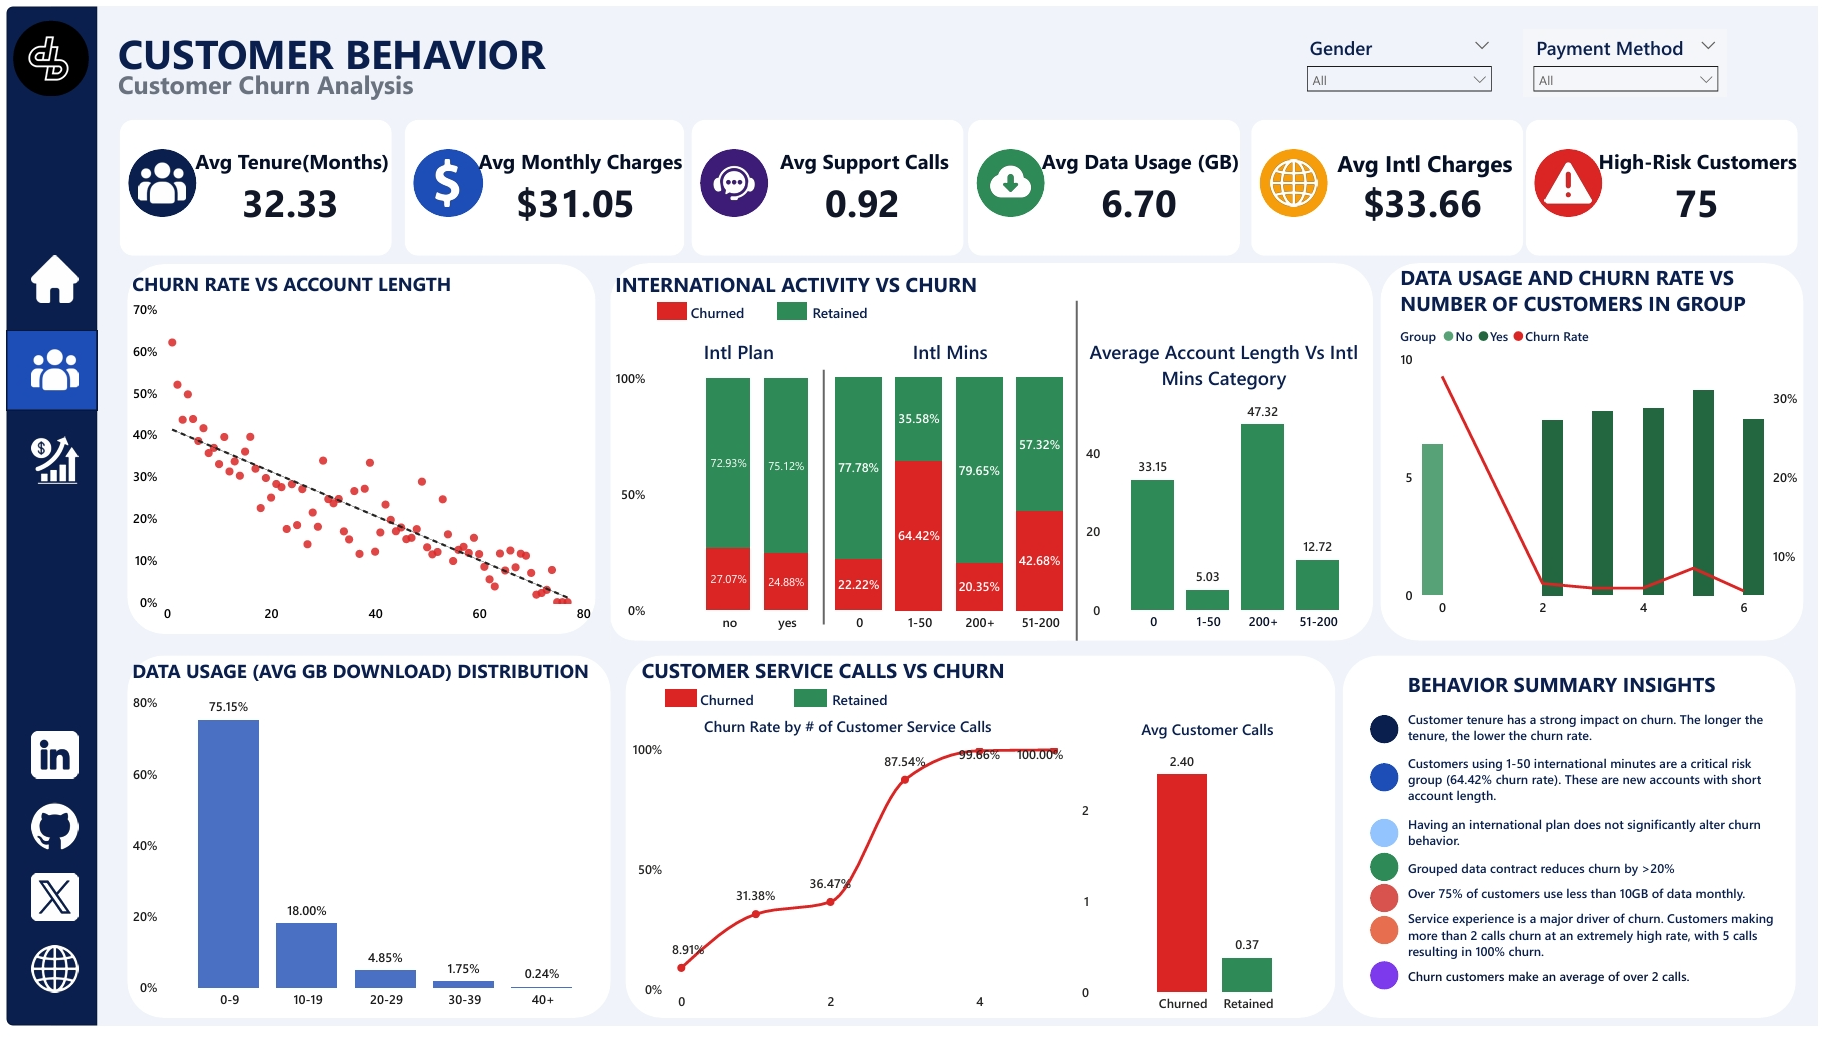

What the dashboard file says about the page in this screenshot:
{"tool":"powerbi","page":{"name":"Customer Behaviour","canvas":[1920,1080],"ordinal":1},"visuals":[{"type":"shape","box":[48,-8,1872,1088],"z":0},{"type":"group","id":"g1","title":"Group 2","box":[120,120,288,144],"z":0,"group":"g16"},{"type":"group","id":"g2","title":"Group 2","box":[421.8,120,296,144],"z":0,"group":"g17"},{"type":"group","id":"g3","title":"Group 2","box":[725.6,120,288,144],"z":0,"group":"g18"},{"type":"group","id":"g4","title":"Group 2","box":[1019.4,120,288,144],"z":0,"group":"g19"},{"type":"group","id":"g5","title":"Group 2","box":[1319.2,120,288,144],"z":0,"group":"g20"},{"type":"group","id":"g6","title":"Group 2","box":[1610,120,288,144],"z":0,"group":"g21"},{"type":"shape","box":[129,151,72,72],"z":0,"group":"g10"},{"type":"shape","box":[431,151,74,72],"z":0,"group":"g11"},{"type":"shape","box":[734.6,151,72,72],"z":0,"group":"g12"},{"type":"shape","box":[1028.4,151,72,72],"z":0,"group":"g13"},{"type":"shape","box":[1328.2,151,72,72],"z":0,"group":"g14"},{"type":"shape","box":[1619,151,72,72],"z":0,"group":"g15"},{"type":"shape","box":[690,314,31,19],"z":0,"group":"g22"},{"type":"shape","box":[698,724.3,33.5,19.1],"z":0,"group":"g7"},{"type":"lineChart","title":"Churn Rate by # of Customer Service Calls","fields":{"Y":["_Calculations.Churn Rate"],"Category":["Databel - Data.Customer Service Calls"]},"box":[658,751.5,466.8,322.5],"z":0,"group":"g23"},{"type":"card","fields":{"Values":["Avg(Databel - Data.Account Length (in months))"]},"box":[217,135,168,144],"z":1000,"group":"g16"},{"type":"card","fields":{"Values":["Avg(Databel - Data.Monthly Charge)"]},"box":[518.8,135,168,144],"z":1000,"group":"g17"},{"type":"card","fields":{"Values":["Avg(Databel - Data.Customer Service Calls)"]},"box":[822.6,135,168,144],"z":1000,"group":"g18"},{"type":"card","fields":{"Values":["Avg(Databel - Data.Avg Monthly GB Download)"]},"box":[1116.4,135,168,144],"z":1000,"group":"g19"},{"type":"card","fields":{"Values":["Avg(Databel - Data.Extra International Charges)"]},"box":[1416.2,135,168,144],"z":1000,"group":"g20"},{"type":"card","fields":{"Values":["DimSegmentation.Count of Customer ID for High Risk"]},"box":[1707,135,168,144],"z":1000,"group":"g21"},{"type":"image","box":[140,162,50,50],"z":1000,"group":"g10"},{"type":"image","box":[441.3,162,51.4,50],"z":1000,"group":"g11"},{"type":"image","box":[745.6,162,50,50],"z":1000,"group":"g12"},{"type":"image","box":[1039.4,162,50,50],"z":1000,"group":"g13"},{"type":"image","box":[1339.2,162,50,50],"z":1000,"group":"g14"},{"type":"image","box":[1630,162,50,50],"z":1000,"group":"g15"},{"type":"shape","box":[640,272,808,400],"z":1000},{"type":"shape","box":[128,273,496,392],"z":1000,"group":"g9"},{"type":"shape","box":[817,314,31,19],"z":1000,"group":"g22"},{"type":"shape","box":[835.2,724.3,33.5,19.1],"z":1000,"group":"g7"},{"type":"columnChart","title":"Avg Customer Calls","fields":{"Category":["DimChurn.Churn"],"Y":["Avg(Databel - Data.Customer Service Calls)"]},"box":[1134.5,754.5,276.6,322.5],"z":1000,"group":"g23"},{"type":"textbox","box":[195,144,224,48],"z":2000,"group":"g16"},{"type":"textbox","box":[494.8,144,228,48],"z":2000,"group":"g17"},{"type":"textbox","box":[800.6,144,216,48],"z":2000,"group":"g18"},{"type":"textbox","box":[1092.4,144,224,48],"z":2000,"group":"g19"},{"type":"textbox","box":[1399.2,144,208,48],"z":2000,"group":"g20"},{"type":"textbox","box":[1682,144,223,48],"z":2000,"group":"g21"},{"type":"shape","box":[1456,272,448,400],"z":2000},{"type":"textbox","box":[720,309,80,30],"z":2000,"group":"g22"},{"type":"group","id":"g7","title":"Group 7","box":[698,719.3,258.2,30.2],"z":2000,"group":"g23"},{"type":"textbox","box":[730.4,719.3,86.4,30.2],"z":2000,"group":"g7"},{"type":"textbox","box":[640,274,400,48],"z":3000},{"type":"textbox","box":[849,309,80,30],"z":3000,"group":"g22"},{"type":"textbox","box":[667.7,684,432.2,48.4],"z":3000,"group":"g23"},{"type":"textbox","box":[869.8,719.3,86.4,30.2],"z":3000,"group":"g7"},{"type":"shape","box":[640,304,496,368],"z":4000},{"type":"group","id":"g8","title":"Group 5","box":[640,309,512,363],"z":5000},{"type":"shape","box":[0,0,96,1080],"z":6000},{"type":"shape","box":[0,343,96,85],"z":7000},{"type":"shape","box":[1416,688,480,384],"z":8000},{"type":"shape","box":[656,688,752,384],"z":9000},{"type":"shape","box":[128,688,512,384],"z":10000},{"type":"group","id":"g9","title":"Group 6","box":[128,273,496,392],"z":11000},{"type":"shape","box":[120,120,288,144],"z":12000,"group":"g1"},{"type":"shape","box":[421.8,120,296,144],"z":12000,"group":"g2"},{"type":"shape","box":[725.6,120,288,144],"z":12000,"group":"g3"},{"type":"shape","box":[1019.4,120,288,144],"z":12000,"group":"g4"},{"type":"shape","box":[1319.2,120,288,144],"z":12000,"group":"g5"},{"type":"shape","box":[1610,120,288,144],"z":12000,"group":"g6"},{"type":"image","box":[26,264,50,50],"z":12000},{"type":"image","box":[26,360,50,50],"z":13000},{"type":"group","id":"g10","title":"Group 1","box":[129,151,72,72],"z":13003,"group":"g1"},{"type":"group","id":"g11","title":"Group 1","box":[431,151,74,72],"z":13003,"group":"g2"},{"type":"group","id":"g12","title":"Group 1","box":[734.6,151,72,72],"z":13003,"group":"g3"},{"type":"group","id":"g13","title":"Group 1","box":[1028.4,151,72,72],"z":13003,"group":"g4"},{"type":"group","id":"g14","title":"Group 1","box":[1328.2,151,72,72],"z":13003,"group":"g5"},{"type":"group","id":"g15","title":"Group 1","box":[1619,151,72,72],"z":13003,"group":"g6"},{"type":"image","box":[26,456,50,50],"z":14000},{"type":"textbox","box":[113,15,504,96],"z":15000},{"type":"textbox","box":[113,59,432,48],"z":16000},{"type":"image","box":[26,768,50,50],"z":17000},{"type":"image","box":[26,843.7,50,50],"z":18000},{"type":"image","box":[26,919.3,50,50],"z":19000},{"type":"image","box":[26,995,50,50],"z":20000},{"type":"group","id":"g16","title":"Group 3","box":[120,120,299,159],"z":21000},{"type":"group","id":"g17","title":"Group 3","box":[421.8,120,301,159],"z":22000},{"type":"group","id":"g18","title":"Group 3","box":[725.6,120,291,159],"z":23000},{"type":"group","id":"g19","title":"Group 3","box":[1019.4,120,297,159],"z":24000},{"type":"group","id":"g20","title":"Group 3","box":[1319.2,120,288,159],"z":25000},{"type":"group","id":"g21","title":"Group 3","box":[1610,120,295,159],"z":26000},{"type":"clusteredColumnChart","title":"DATA USAGE (AVG GB DOWNLOAD) DISTRIBUTION","fields":{"Y":["_Calculations.No. of Customers"],"Category":["Databel - Data.Grouped Monthly Data"]},"box":[128,688,512,384],"z":27000},{"type":"slicer","fields":{"Values":["Databel - Data.Gender"]},"box":[1368,24,216,72],"z":28000},{"type":"hundredPercentStackedColumnChart","title":"Intl Plan","fields":{"Category":["DimContract.Intl Plan"],"Y":["_Calculations.No. of Customers"],"Series":["DimChurn.Churn"]},"box":[640,352,272,320],"z":28000,"group":"g8"},{"type":"slicer","fields":{"Values":["Databel - Data.Payment Method"]},"box":[1608,24,216,72],"z":29000},{"type":"hundredPercentStackedColumnChart","title":"Intl Mins","fields":{"Category":["Databel - Data.International Mins Category"],"Series":["DimChurn.Churn"],"Y":["CountNonNull(Databel - Data.Customer ID)"]},"box":[848,352,304,320],"z":29000,"group":"g8"},{"type":"scatterChart","title":"CHURN RATE VS ACCOUNT LENGTH","fields":{"Y":["_Calculations.Churn Rate"],"X":["Databel - Data.Account Length (in months)"]},"box":[128,279,496,384],"z":30000},{"type":"group","id":"g22","title":"Group 7","box":[690,309,239,30],"z":30000,"group":"g8"},{"type":"lineClusteredColumnComboChart","title":"DATA USAGE AND CHURN RATE VS NUMBER OF CUSTOMERS IN GROUP","fields":{"Category":["DimContract.Number of Customers in Group"],"Y":["Avg(Databel - Data.Avg Monthly GB Download)"],"Y2":["_Calculations.Churn Rate"],"Series":["DimContract.Group"]},"box":[1472,272,432,384],"z":31000},{"type":"shape","box":[714,384,304,272],"z":32000,"group":"g8"},{"type":"textbox","box":[1424,699,448,48],"z":32000},{"type":"shape","box":[1445,751,30,30],"z":33000},{"type":"shape","box":[1445,802,30,30],"z":34000},{"type":"shape","box":[1445,861,30,30],"z":35000},{"type":"group","id":"g23","title":"Group 4","box":[658,684,752,387],"z":36000},{"type":"textbox","box":[1480,741,400,46],"z":37000},{"type":"clusteredColumnChart","title":"Average Account Length Vs Intl Mins Category","fields":{"Category":["Databel - Data.International Mins Category"],"Y":["Avg(Databel - Data.Account Length (in months))"]},"box":[1138,352,304,320],"z":38000},{"type":"shape","box":[978,312,312,360],"z":39000},{"type":"textbox","box":[1480,788,400,64],"z":40000},{"type":"textbox","box":[1480,853,408,46],"z":41000},{"type":"textbox","box":[1480,899,336,28],"z":42000},{"type":"textbox","box":[1480,926,400,28],"z":43000},{"type":"textbox","box":[1480,953,400,64],"z":44000},{"type":"textbox","box":[1480,1014,400,28],"z":45000},{"type":"shape","box":[1445,897,30,30],"z":46000},{"type":"shape","box":[1445,930,30,30],"z":47000},{"type":"shape","box":[1445,964,30,30],"z":48000},{"type":"shape","box":[1445,1012,30,30],"z":49000},{"type":"image","box":[7,15,80,80],"z":49001}]}

Visuals, with their boxes on the page's 1920x1080 design canvas (x1, y1, x2, y2). These are canvas units, not pixel positions in the 1833x1039 screenshot, which may show the page scaled, cropped or inside an application window:
shape: (48,-8,1920,1080)
"Group 2" group: (120,120,408,264)
"Group 2" group: (422,120,718,264)
"Group 2" group: (726,120,1014,264)
"Group 2" group: (1019,120,1307,264)
"Group 2" group: (1319,120,1607,264)
"Group 2" group: (1610,120,1898,264)
shape: (129,151,201,223)
shape: (431,151,505,223)
shape: (735,151,807,223)
shape: (1028,151,1100,223)
shape: (1328,151,1400,223)
shape: (1619,151,1691,223)
shape: (690,314,721,333)
shape: (698,724,732,743)
"Churn Rate by # of Customer Service Calls" lineChart: (658,752,1125,1074)
card - Avg(Databel - Data.Account Length (in months)): (217,135,385,279)
card - Avg(Databel - Data.Monthly Charge): (519,135,687,279)
card - Avg(Databel - Data.Customer Service Calls): (823,135,991,279)
card - Avg(Databel - Data.Avg Monthly GB Download): (1116,135,1284,279)
card - Avg(Databel - Data.Extra International Charges): (1416,135,1584,279)
card - DimSegmentation.Count of Customer ID for High Risk: (1707,135,1875,279)
image: (140,162,190,212)
image: (441,162,493,212)
image: (746,162,796,212)
image: (1039,162,1089,212)
image: (1339,162,1389,212)
image: (1630,162,1680,212)
shape: (640,272,1448,672)
shape: (128,273,624,665)
shape: (817,314,848,333)
shape: (835,724,869,743)
"Avg Customer Calls" columnChart: (1134,754,1411,1077)
textbox: (195,144,419,192)
textbox: (495,144,723,192)
textbox: (801,144,1017,192)
textbox: (1092,144,1316,192)
textbox: (1399,144,1607,192)
textbox: (1682,144,1905,192)
shape: (1456,272,1904,672)
textbox: (720,309,800,339)
"Group 7" group: (698,719,956,750)
textbox: (730,719,817,750)
textbox: (640,274,1040,322)
textbox: (849,309,929,339)
textbox: (668,684,1100,732)
textbox: (870,719,956,750)
shape: (640,304,1136,672)
"Group 5" group: (640,309,1152,672)
shape: (0,0,96,1080)
shape: (0,343,96,428)
shape: (1416,688,1896,1072)
shape: (656,688,1408,1072)
shape: (128,688,640,1072)
"Group 6" group: (128,273,624,665)
shape: (120,120,408,264)
shape: (422,120,718,264)
shape: (726,120,1014,264)
shape: (1019,120,1307,264)
shape: (1319,120,1607,264)
shape: (1610,120,1898,264)
image: (26,264,76,314)
image: (26,360,76,410)
"Group 1" group: (129,151,201,223)
"Group 1" group: (431,151,505,223)
"Group 1" group: (735,151,807,223)
"Group 1" group: (1028,151,1100,223)
"Group 1" group: (1328,151,1400,223)
"Group 1" group: (1619,151,1691,223)
image: (26,456,76,506)
textbox: (113,15,617,111)
textbox: (113,59,545,107)
image: (26,768,76,818)
image: (26,844,76,894)
image: (26,919,76,969)
image: (26,995,76,1045)
"Group 3" group: (120,120,419,279)
"Group 3" group: (422,120,723,279)
"Group 3" group: (726,120,1017,279)
"Group 3" group: (1019,120,1316,279)
"Group 3" group: (1319,120,1607,279)
"Group 3" group: (1610,120,1905,279)
"DATA USAGE (AVG GB DOWNLOAD) DISTRIBUTION" clusteredColumnChart: (128,688,640,1072)
slicer - Databel - Data.Gender: (1368,24,1584,96)
"Intl Plan" hundredPercentStackedColumnChart: (640,352,912,672)
slicer - Databel - Data.Payment Method: (1608,24,1824,96)
"Intl Mins" hundredPercentStackedColumnChart: (848,352,1152,672)
"CHURN RATE VS ACCOUNT LENGTH" scatterChart: (128,279,624,663)
"Group 7" group: (690,309,929,339)
"DATA USAGE AND CHURN RATE VS NUMBER OF CUSTOMERS IN GROUP" lineClusteredColumnComboChart: (1472,272,1904,656)
shape: (714,384,1018,656)
textbox: (1424,699,1872,747)
shape: (1445,751,1475,781)
shape: (1445,802,1475,832)
shape: (1445,861,1475,891)
"Group 4" group: (658,684,1410,1071)
textbox: (1480,741,1880,787)
"Average Account Length Vs Intl Mins Category" clusteredColumnChart: (1138,352,1442,672)
shape: (978,312,1290,672)
textbox: (1480,788,1880,852)
textbox: (1480,853,1888,899)
textbox: (1480,899,1816,927)
textbox: (1480,926,1880,954)
textbox: (1480,953,1880,1017)
textbox: (1480,1014,1880,1042)
shape: (1445,897,1475,927)
shape: (1445,930,1475,960)
shape: (1445,964,1475,994)
shape: (1445,1012,1475,1042)
image: (7,15,87,95)
